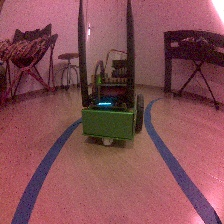rob: (80, 58, 144, 146)
